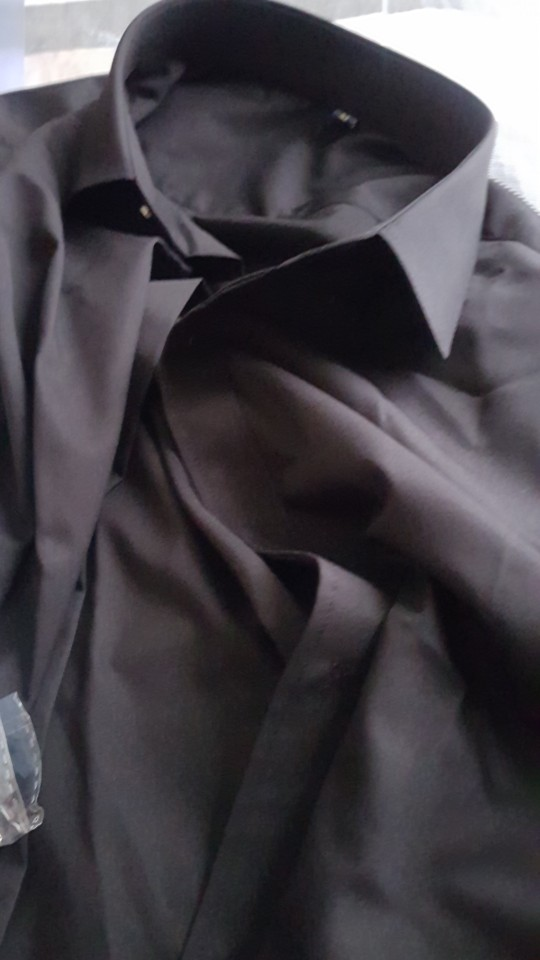shirts: (17, 3, 540, 943)
